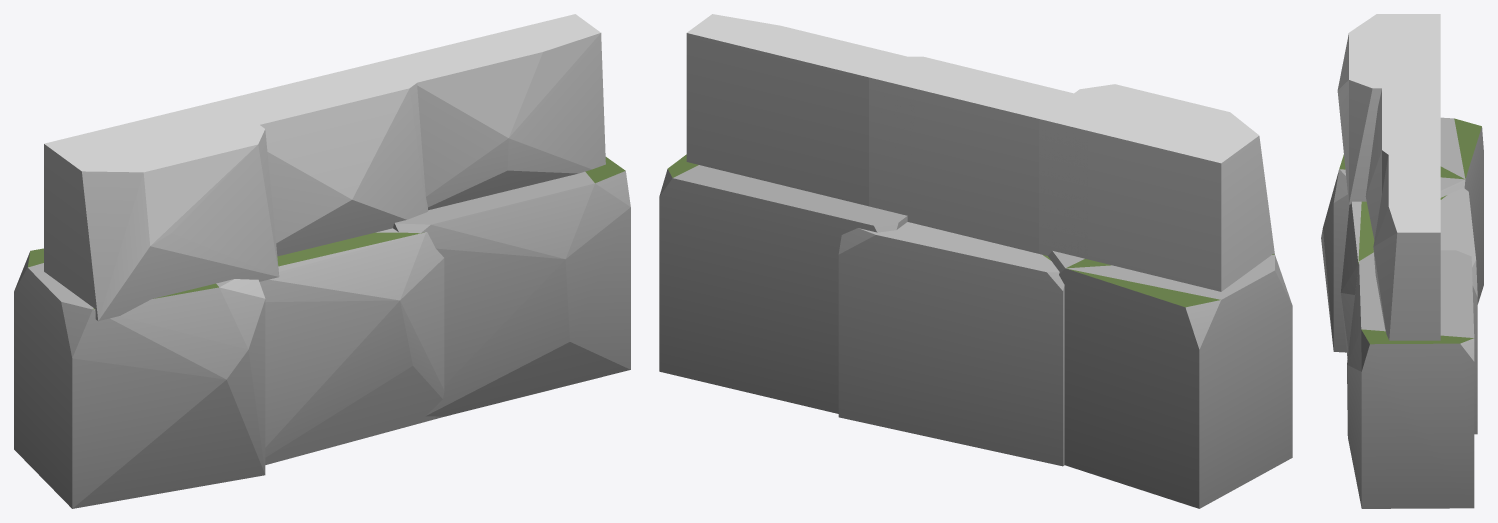
The picture shows the model from 3 angles, left to right: view 1: azimuth 30°, elevation 25°; view 2: azimuth 150°, elevation 25°; view 3: azimuth 270°, elevation 25°; orthographic projection. The views are drawn at different scales.
Parts seen in each view (by area): view 1: rk_cf2_3; view 2: rk_cf2_3; view 3: rk_cf2_3.
Part boxes in pixels (box(x1,y1,x2,y2)): rk_cf2_3: box(14, 14, 630, 508); rk_cf2_3: box(659, 14, 1292, 508); rk_cf2_3: box(1321, 14, 1483, 508).
Size of the model in its own units: 35.4 by 19.5 by 10.56.
